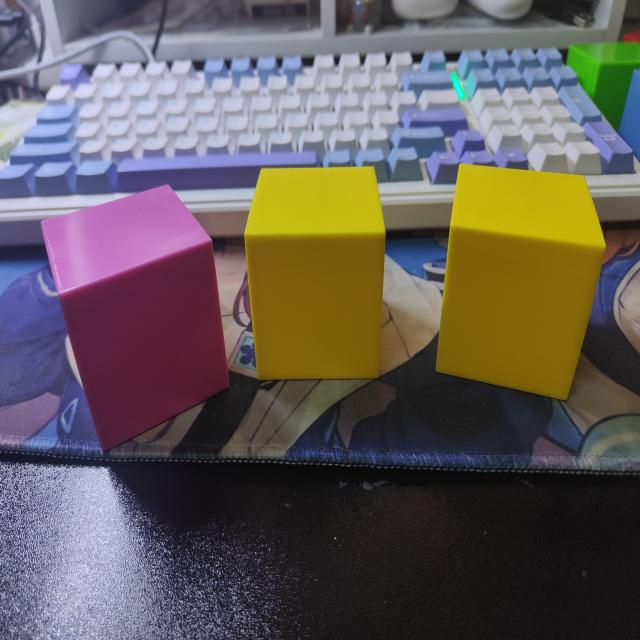pink: (41, 182, 230, 455)
yellow: (433, 164, 606, 404), (243, 166, 387, 383)
